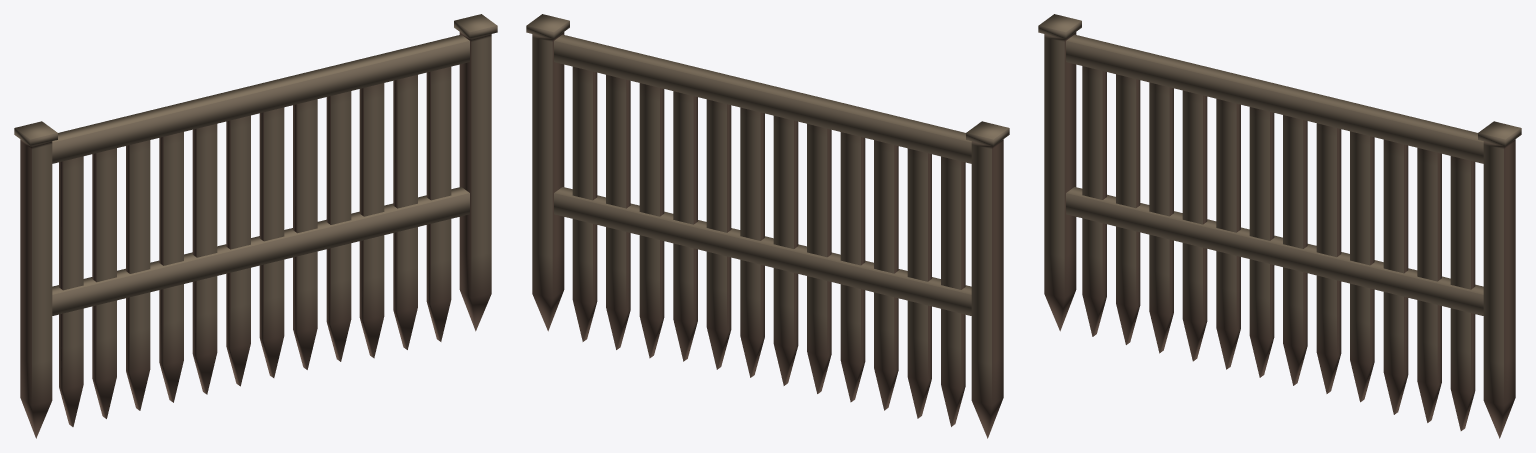
3 renders of one model, left to right at view 1: azimuth 30°, elevation 25°; view 2: azimuth 150°, elevation 25°; view 3: azimuth 330°, elevation 25°, orthographic.
Parts seen in each view (by area): view 1: WoodFence; view 2: WoodFence; view 3: WoodFence.
Boxes of the visible parts, bbox=[...] form: WoodFence: bbox=[14, 14, 497, 438]; WoodFence: bbox=[526, 14, 1009, 438]; WoodFence: bbox=[1038, 14, 1521, 438].
Bounding box in the file's own units: 0.5 × 0.3156 × 0.0295.
